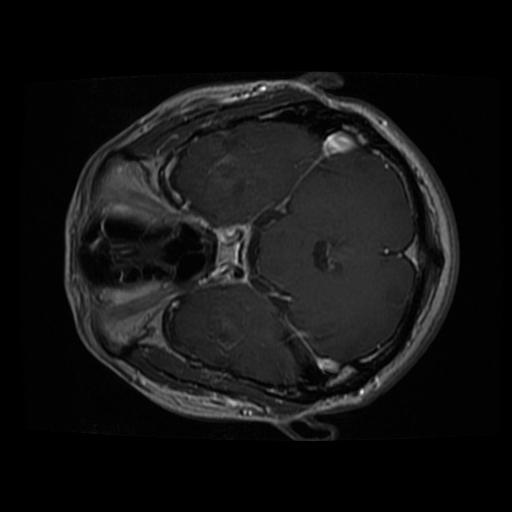glioma: (193, 130, 256, 204)
